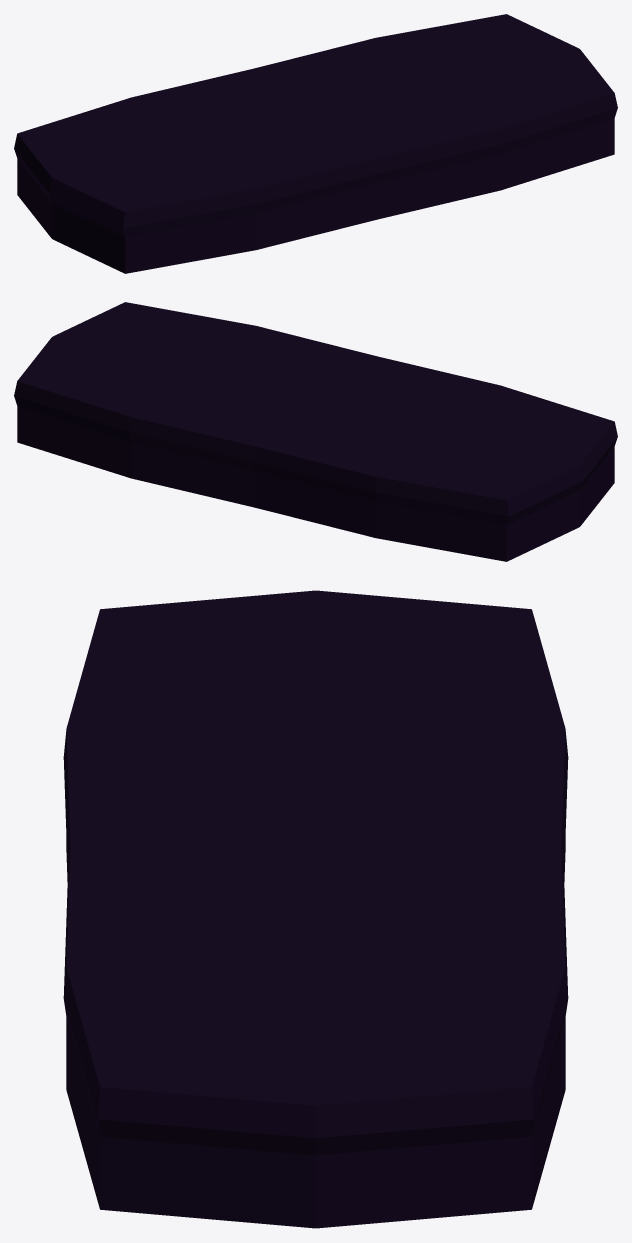
Rendered from stage-floor.dae.
The picture shows the model from 3 angles, top to bottom: view 1: azimuth 30°, elevation 25°; view 2: azimuth 150°, elevation 25°; view 3: azimuth 270°, elevation 25°; orthographic projection. The views are drawn at different scales.
Visible parts, largest first — view 1: Cube; view 2: Cube; view 3: Cube.
Part boxes in pixels (box(x1,y1,x2,y2)): Cube: box(14, 14, 617, 273); Cube: box(14, 302, 617, 561); Cube: box(63, 590, 568, 1228).
Size of the model in its own units: 5.71 by 2.34 by 0.6274.
